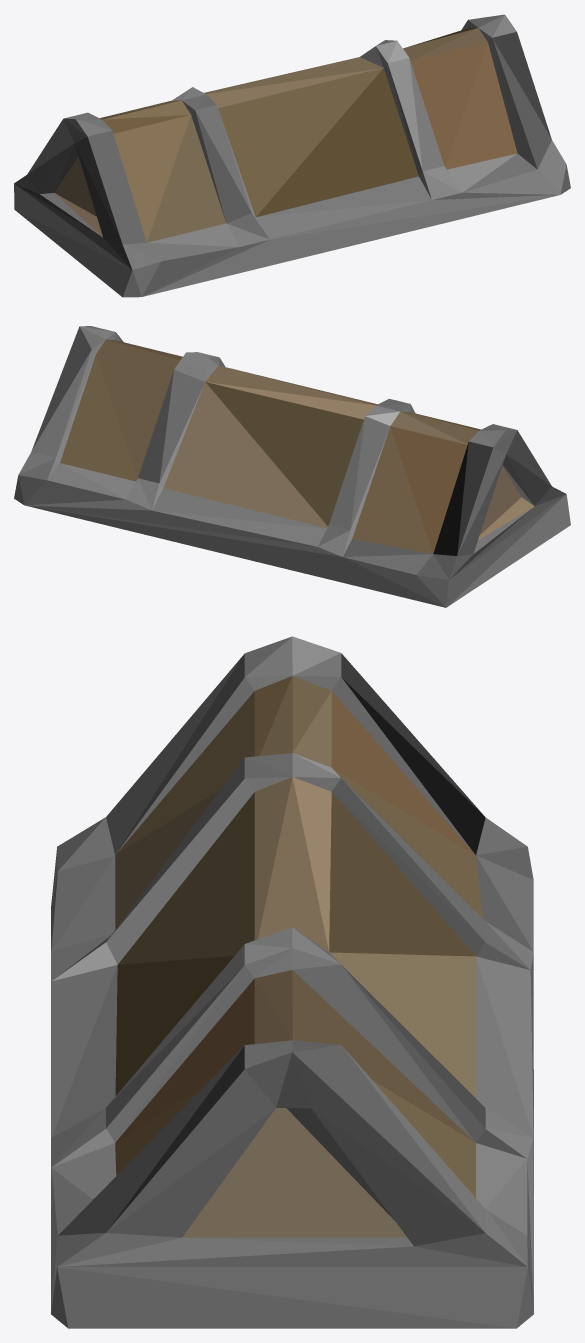
Rendered from Chest-D_Top.fbx.
3 renders of one model, top to bottom at view 1: azimuth 30°, elevation 25°; view 2: azimuth 150°, elevation 25°; view 3: azimuth 270°, elevation 25°, orthographic. The views are drawn at different scales.
Parts seen in each view (by area): view 1: Chest-D_Top; view 2: Chest-D_Top; view 3: Chest-D_Top.
Part boxes in pixels (x1=…): Chest-D_Top: x1=14, y1=14, x2=570, y2=297; Chest-D_Top: x1=14, y1=326, x2=570, y2=607; Chest-D_Top: x1=51, y1=636, x2=533, y2=1328.
Size of the model in its own units: 163 by 46.8 by 76.73.
